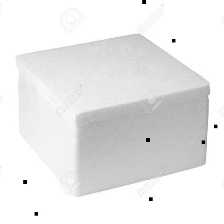foam_box: (8, 28, 215, 200)
